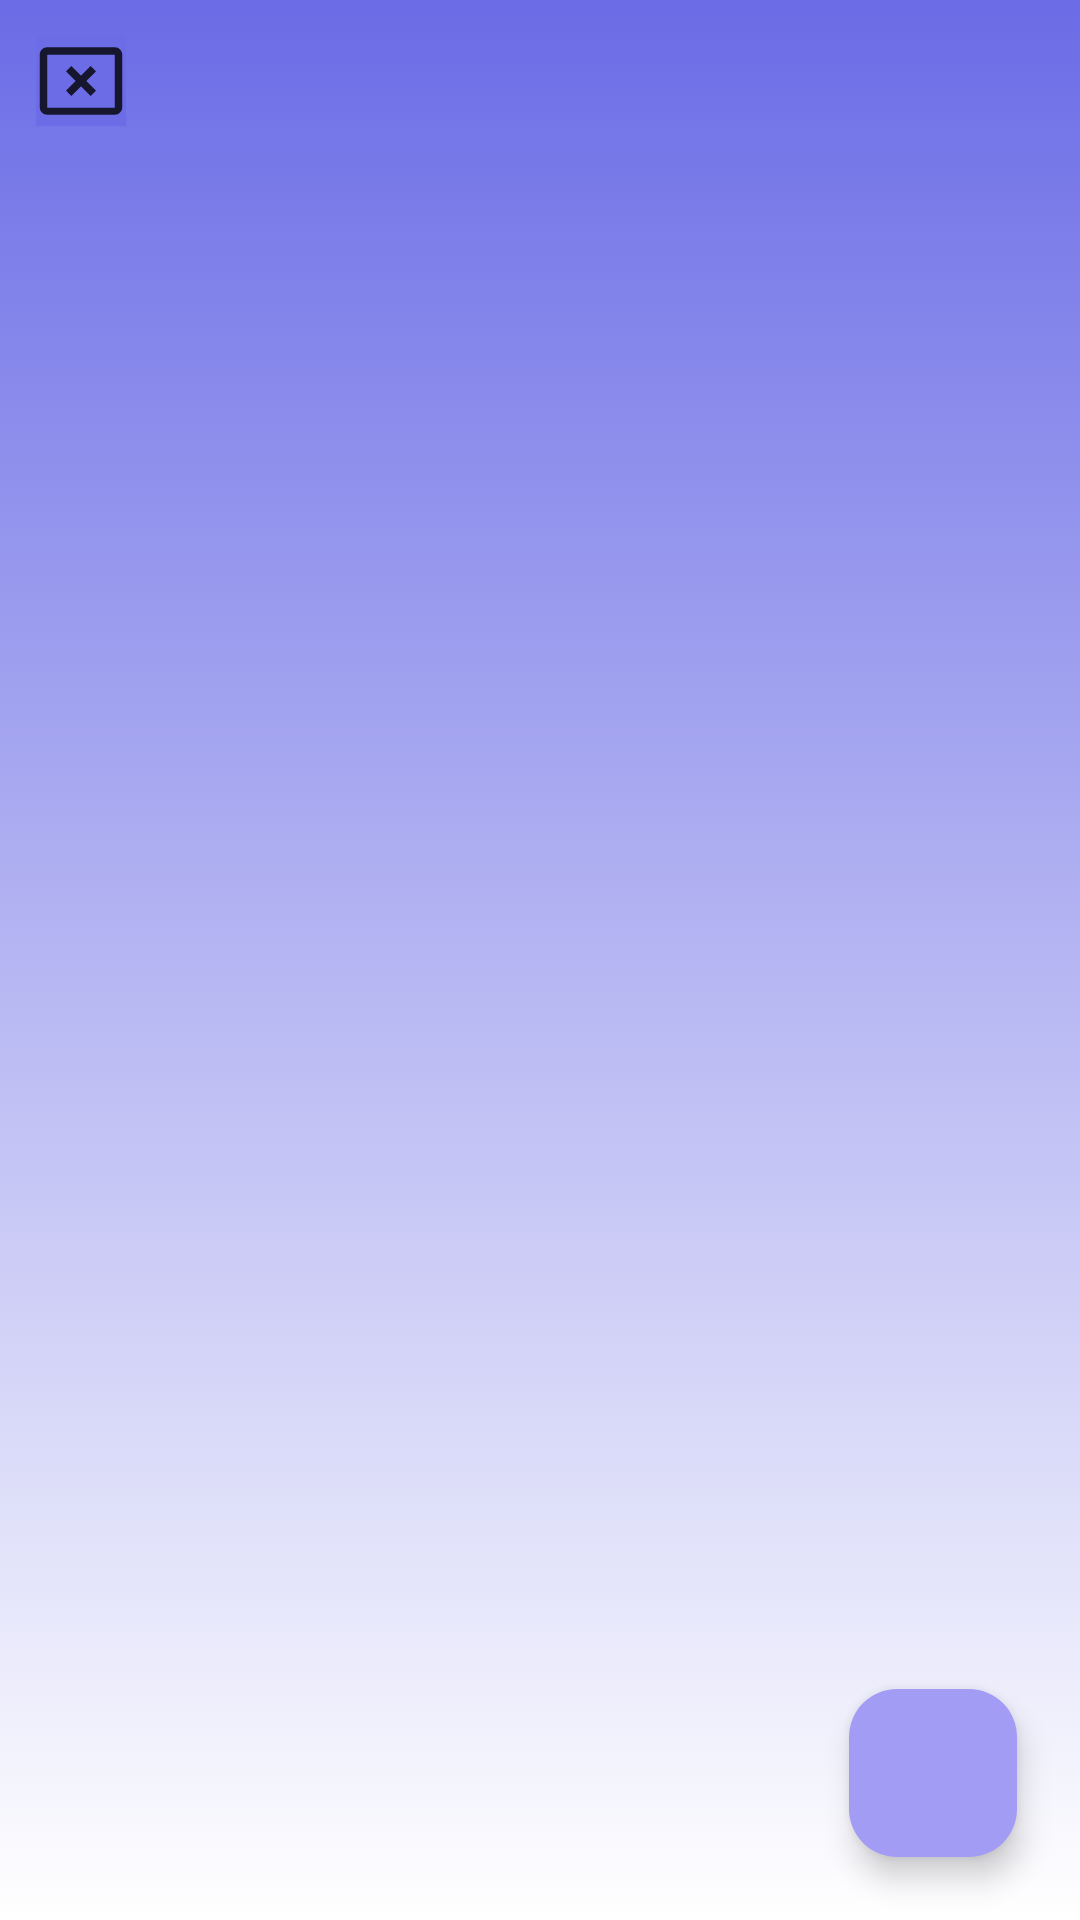

Icons on this 1080x1920 Android screen, each with the point to tap as (x=x, y=y):
cancel presentation: (x=81, y=81)
